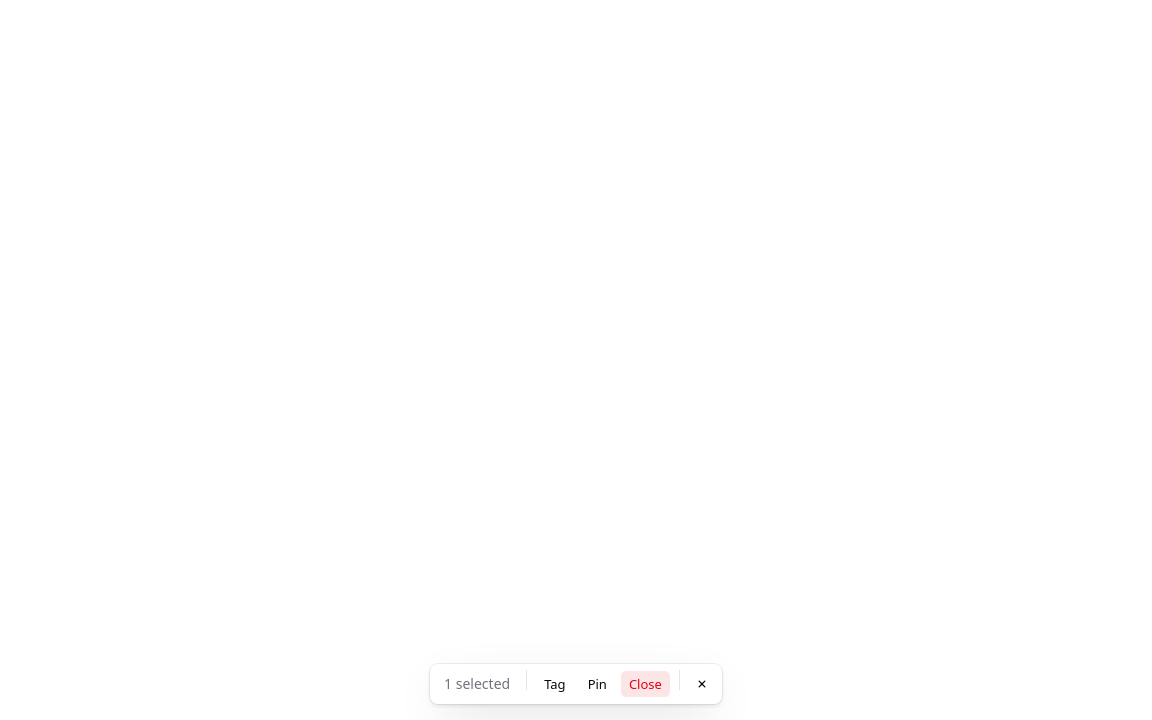
Test case: BulkBar › asks about one session in the singular
Click the button "Close": click(645, 684) 620,670 -> 671,698
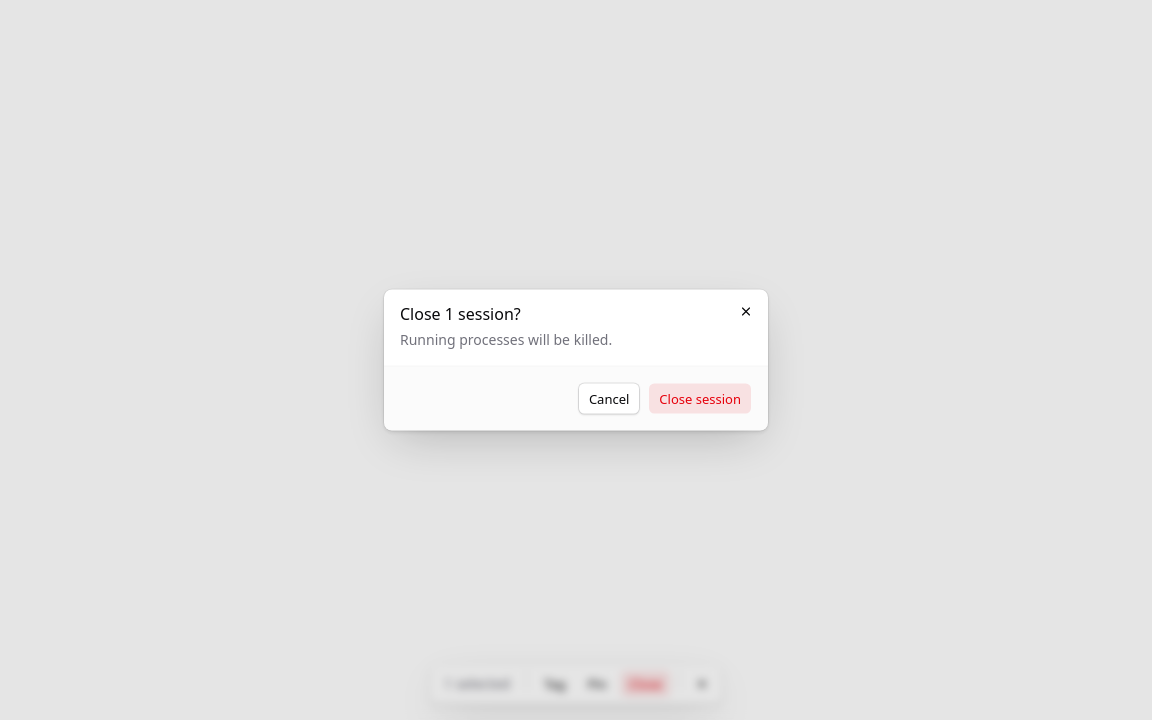
Check: the dialog "Close 1 session?" is shown, box 384,290 -> 768,430
Check: the button "Close session" is shown, box 648,382 -> 752,414
